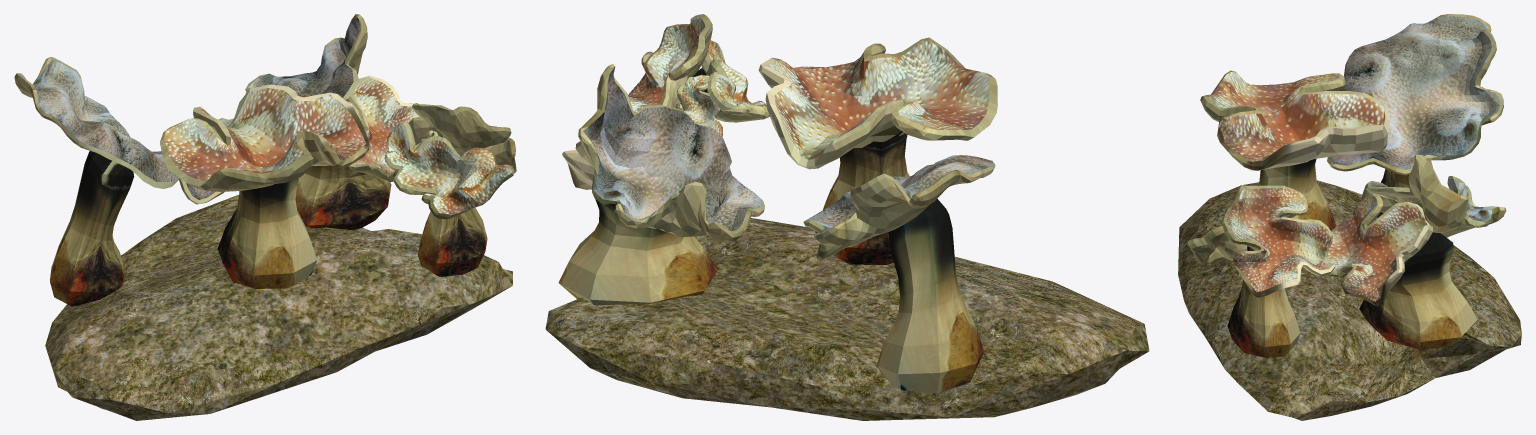
Rendered from sarcophyton-glaucum.glb.
3 views of the same model, side by side, from view 1: azimuth 30°, elevation 25°; view 2: azimuth 150°, elevation 25°; view 3: azimuth 270°, elevation 25° (orthographic). The views are drawn at different scales.
Parts seen in each view (by area): view 1: rock, leather3, leather0, leather2, leather1; view 2: rock, leather1, leather3, leather0, leather2; view 3: rock, leather1, leather0, leather3, leather2.
Part boxes in pixels (x1,y1,x2,y2): rock: [45, 195, 512, 420]; leather3: [160, 84, 369, 288]; leather0: [14, 57, 224, 306]; leather2: [384, 103, 516, 276]; leather1: [218, 14, 419, 230]; rock: [545, 218, 1149, 420]; leather1: [558, 64, 764, 305]; leather3: [758, 37, 997, 264]; leather0: [803, 155, 995, 393]; leather2: [628, 14, 769, 174]; rock: [1178, 180, 1521, 420]; leather1: [1326, 154, 1506, 349]; leather0: [1327, 14, 1503, 217]; leather3: [1200, 70, 1389, 230]; leather2: [1187, 185, 1335, 357].
Size of the model in its own units: 1.5 by 0.814 by 1.
Materials: 4 (4 with a texture image).
